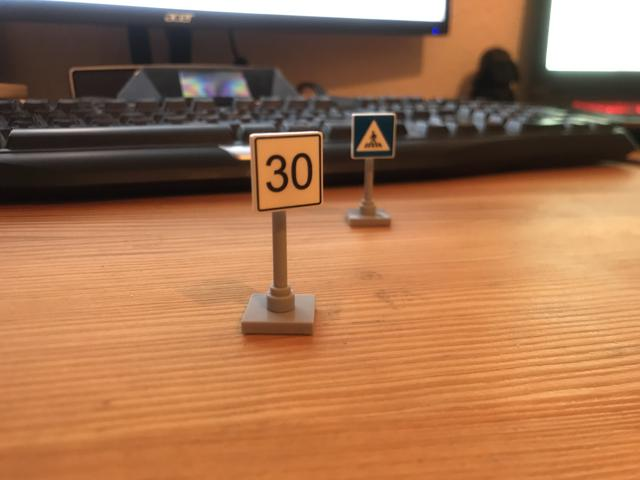fußgängerüberweg: (350, 112, 397, 161)
tempolimit 30: (251, 131, 327, 212)
